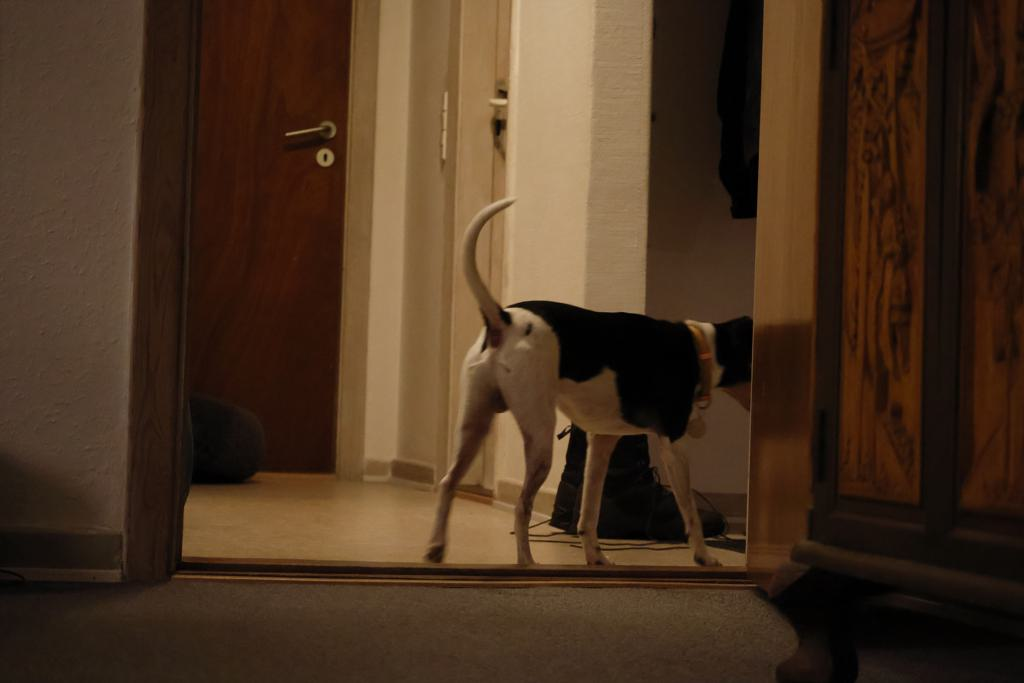Dog: (420, 188, 755, 576)
